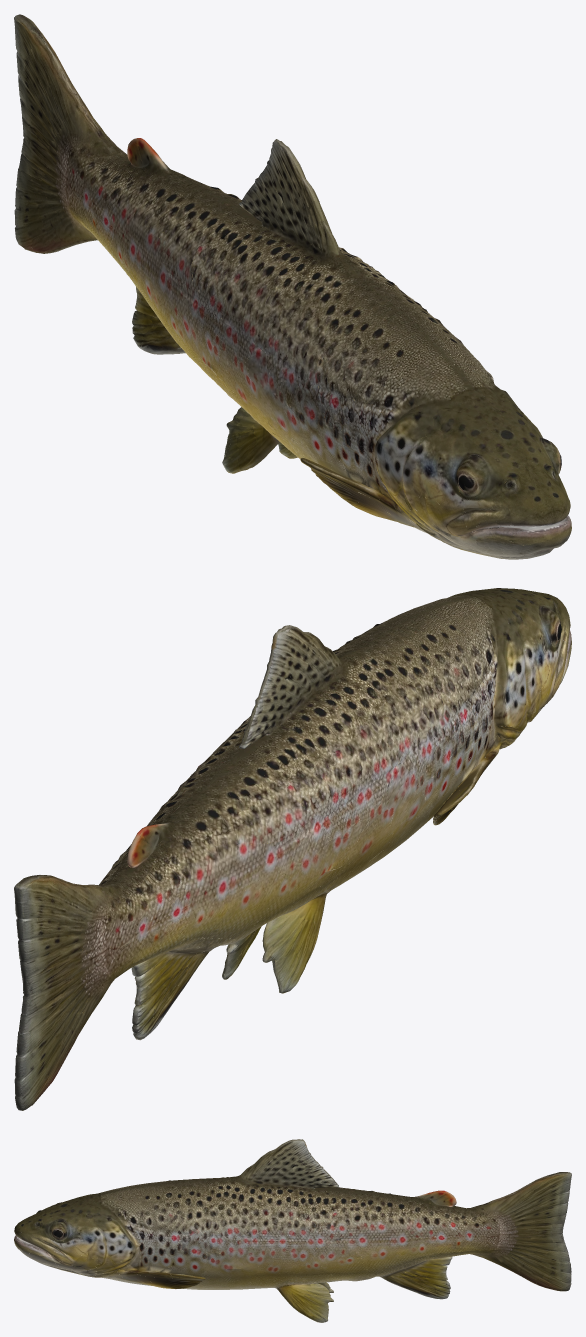
File: pstrag.glb
The picture shows the model from 3 angles, top to bottom: view 1: azimuth 30°, elevation 25°; view 2: azimuth 150°, elevation 25°; view 3: azimuth 270°, elevation 25°; orthographic projection. The views are drawn at different scales.
Visible parts, largest first — view 1: Mesh_0; view 2: Mesh_0; view 3: Mesh_0.
Boxes of the visible parts, x1,y1,x2,y2 form: Mesh_0: (14,14,571,559); Mesh_0: (14,588,571,1110); Mesh_0: (14,1139,571,1322).
Bounding box in the file's own units: 0.3186 × 0.6615 × 1.9.
Materials: 1 (1 with a texture image).
